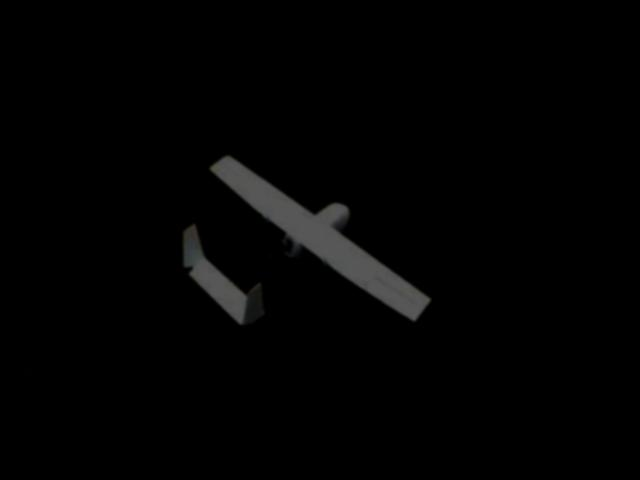uav: (145, 118, 468, 408)
